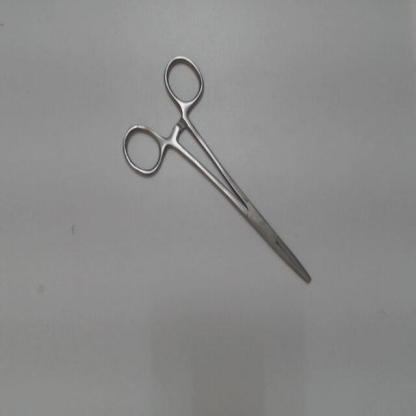Mayo Needle Holder: (115, 45, 325, 296)
